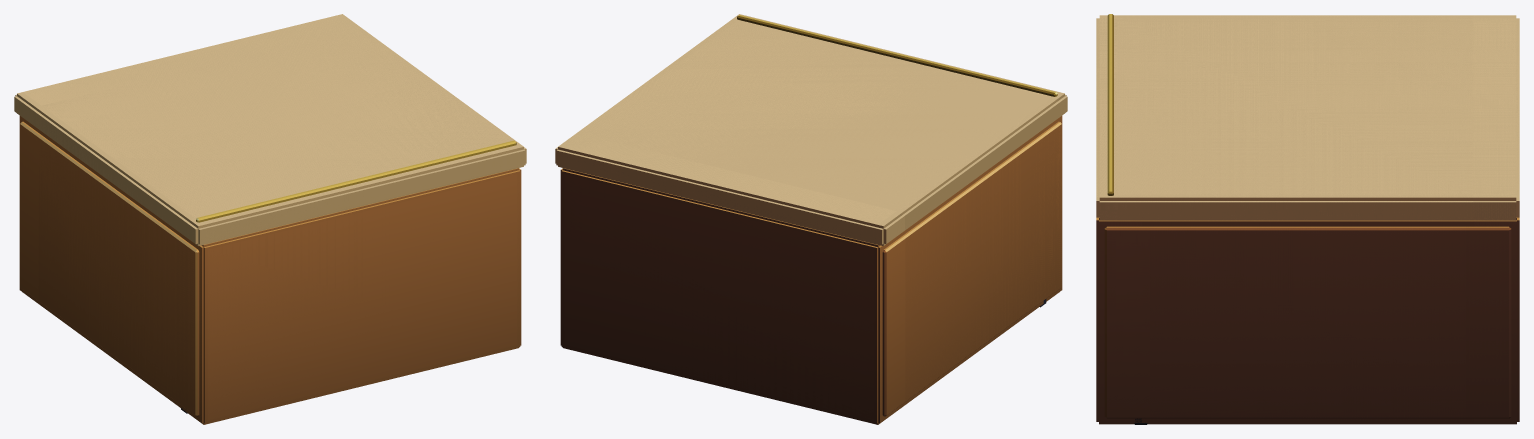
File: counter_mart_set.glb
The picture shows the model from 3 angles, left to right: view 1: azimuth 30°, elevation 25°; view 2: azimuth 150°, elevation 25°; view 3: azimuth 270°, elevation 25°; orthographic projection. The views are drawn at different scales.
Visible parts, largest first — view 1: m8, m4, m5, m0, m7, m10, m9, m12, m6, m11, m13, m2 (+3 smaller); view 2: m4, m0, m1, m5, m8, m12, m13, m3, m6, m7, m2, m14 (+3 smaller); view 3: m0, m4, m2, m8, m3, m1, m12, m6, m7, m5, m10, m11 (+4 smaller).
Part boxes in pixels (x1,y1,x2,y2): m8: (33, 29, 526, 420); m4: (14, 14, 508, 400); m5: (19, 14, 494, 408); m0: (33, 29, 508, 401); m7: (23, 16, 456, 217); m10: (37, 29, 521, 424); m9: (38, 28, 525, 424); m12: (14, 14, 524, 414); m6: (19, 16, 431, 220); m11: (43, 30, 520, 424); m13: (19, 15, 518, 424); m2: (74, 29, 516, 219); m4: (555, 28, 1043, 420); m0: (580, 16, 1059, 401); m1: (581, 17, 1057, 345); m5: (556, 46, 971, 424); m8: (682, 14, 1067, 396); m12: (557, 14, 1067, 414); m13: (563, 16, 1062, 422); m3: (683, 15, 1054, 210); m6: (560, 41, 899, 424); m7: (561, 69, 895, 423); m2: (667, 15, 1054, 211); m14: (591, 16, 1059, 222); m0: (1107, 15, 1473, 418); m4: (1117, 15, 1519, 418); m2: (1107, 15, 1473, 424); m8: (1096, 15, 1472, 418); m3: (1107, 14, 1473, 194); m1: (1107, 14, 1473, 220); m12: (1099, 15, 1516, 417); m6: (1117, 15, 1519, 424); m7: (1117, 19, 1519, 218); m5: (1117, 18, 1519, 220); m10: (1096, 15, 1473, 424); m11: (1096, 19, 1473, 219).
Size of the model in its own units: 1.04 by 0.61 by 1.
